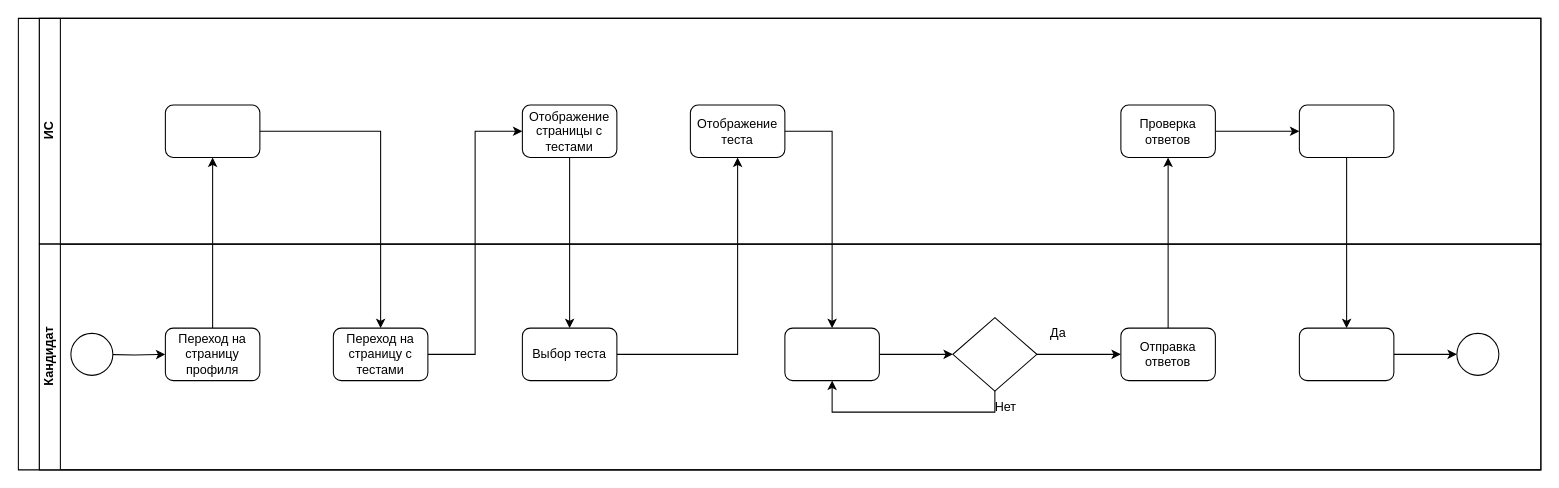
This 1559x488 diagram has some shape labels left out. The box of each missing label's shape, as (x1, y1, x2, y2) in pixels:
Завершить?: (952, 317, 1037, 391)
Отображение профиля: (164, 104, 260, 158)
Получение результатов: (1298, 327, 1394, 381)
Прохождение теста: (784, 327, 879, 381)
Расчёт балла: (1298, 104, 1394, 158)
